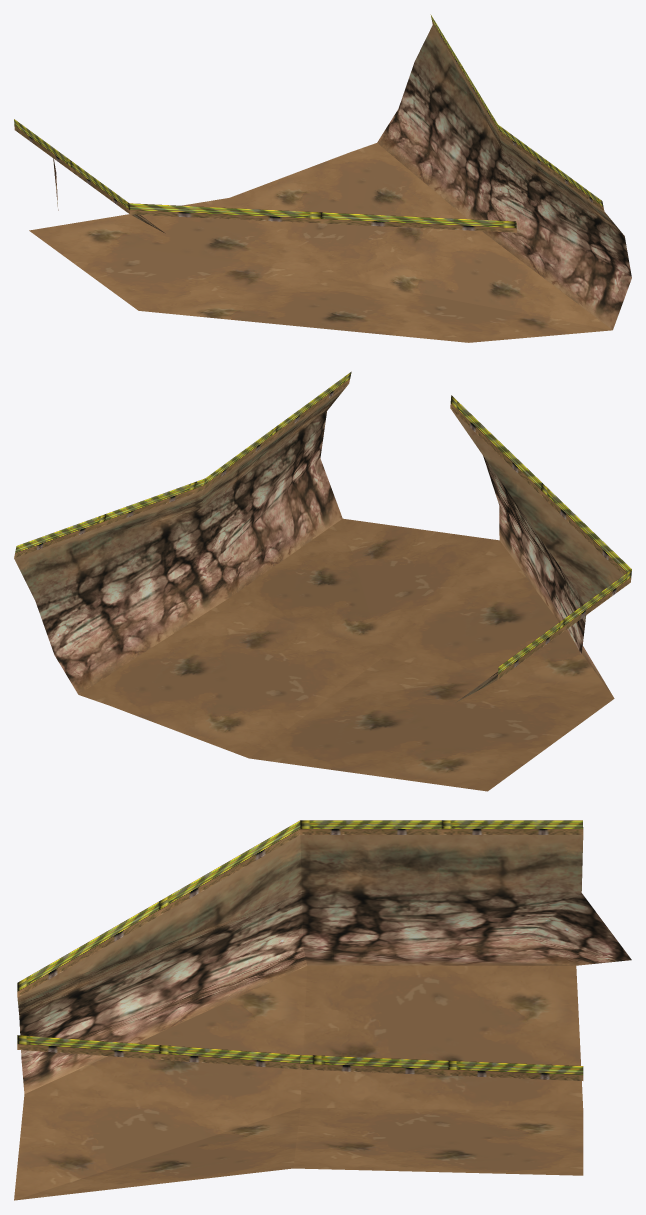
Rendered from ravine02.glb.
The picture shows the model from 3 angles, top to bottom: view 1: azimuth 30°, elevation 25°; view 2: azimuth 150°, elevation 25°; view 3: azimuth 270°, elevation 25°; orthographic projection. The views are drawn at different scales.
Parts seen in each view (by area): view 1: ravine02; view 2: ravine02; view 3: ravine02.
Boxes of the visible parts, x1=… form: ravine02: x1=14, y1=14, x2=631, y2=342; ravine02: x1=14, y1=371, x2=631, y2=791; ravine02: x1=14, y1=820, x2=631, y2=1200.
Size of the model in its own units: 4481 by 1376 by 4671.
Materials: 3 (3 with a texture image).
